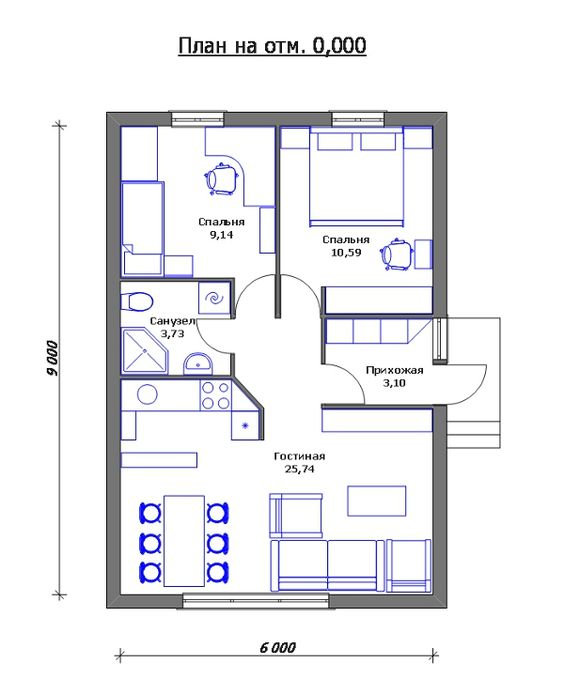door: (232, 272, 277, 315), (278, 272, 323, 315), (322, 362, 367, 405), (443, 361, 488, 404), (193, 315, 231, 357)
room: (106, 403, 448, 607), (276, 110, 447, 312), (107, 112, 279, 282), (106, 278, 235, 379)
window: (182, 591, 330, 610), (169, 110, 226, 129), (329, 109, 386, 128), (431, 314, 450, 361)
